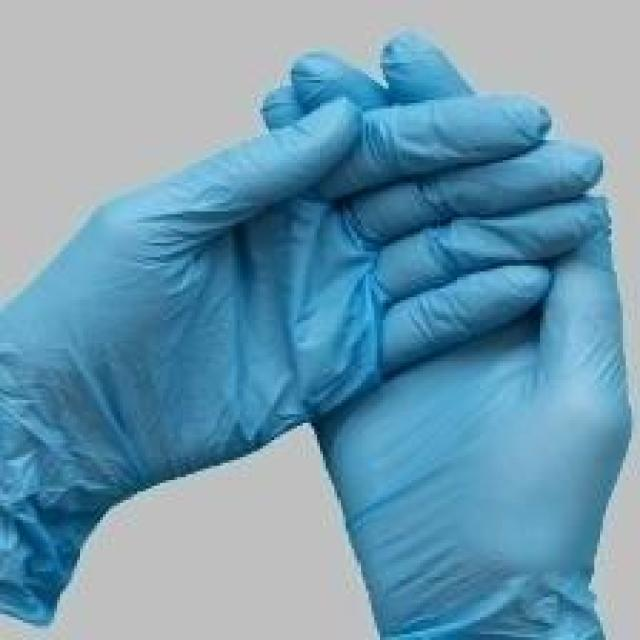Glove: (0, 25, 640, 640)
